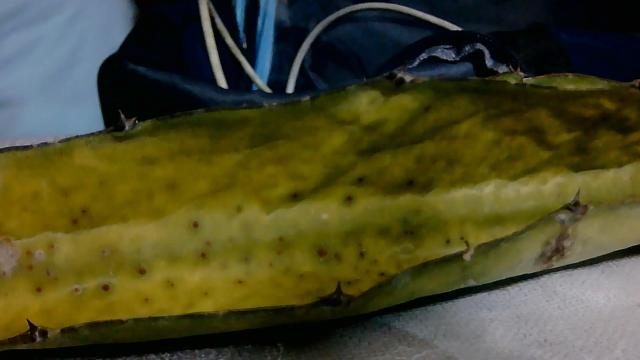stemcanker: (0, 164, 454, 297)
